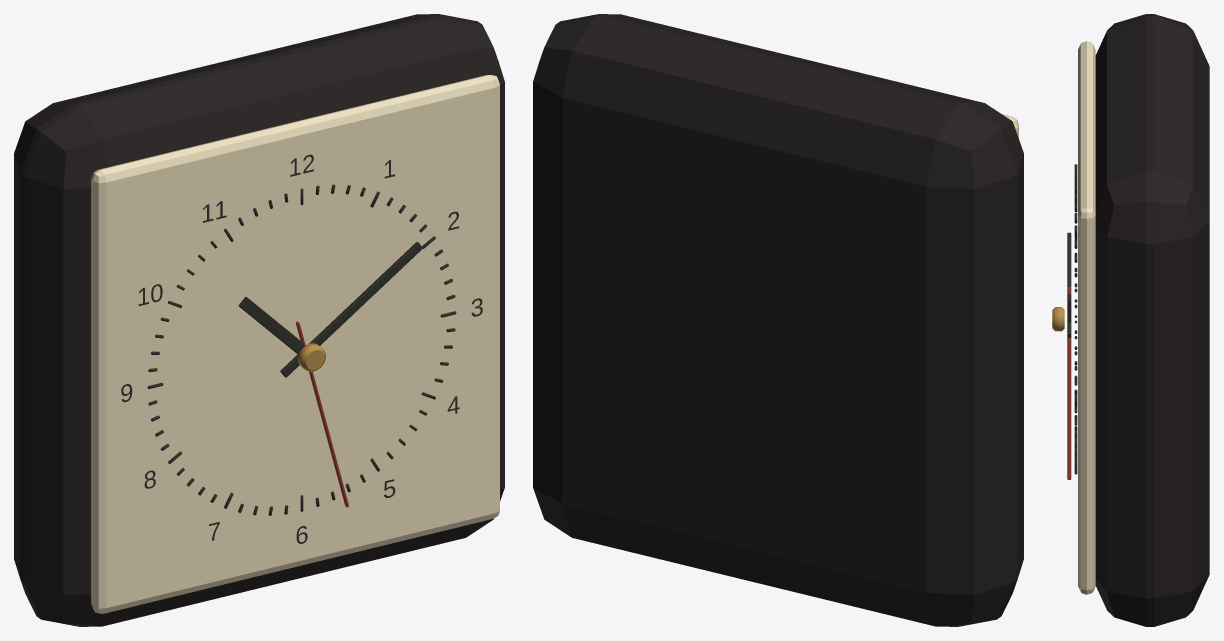
File: WallClock.fbx
3 renders of one model, left to right at view 1: azimuth 30°, elevation 25°; view 2: azimuth 150°, elevation 25°; view 3: azimuth 270°, elevation 25°, orthographic. The views are drawn at different scales.
Parts seen in each view (by area): view 1: Ivory clock face, Clock body, Minute hand, Hour hand, Seconds hand; view 2: Clock body; view 3: Clock body, Ivory clock face, Seconds hand, Hour hand, Hand spindle.
Part boxes in pixels (x1=…): Ivory clock face: x1=91, y1=75, x2=499, y2=613; Clock body: x1=14, y1=14, x2=504, y2=626; Minute hand: x1=280, y1=242, x2=422, y2=377; Hour hand: x1=238, y1=297, x2=305, y2=354; Seconds hand: x1=295, y1=321, x2=348, y2=507; Clock body: x1=533, y1=14, x2=1023, y2=626; Clock body: x1=1095, y1=14, x2=1209, y2=626; Ivory clock face: x1=1078, y1=41, x2=1095, y2=594; Seconds hand: x1=1067, y1=287, x2=1071, y2=479; Hour hand: x1=1067, y1=232, x2=1071, y2=337; Hand spindle: x1=1052, y1=307, x2=1064, y2=331.
Size of the model in its own units: 0.354 by 0.372 by 0.1165.
